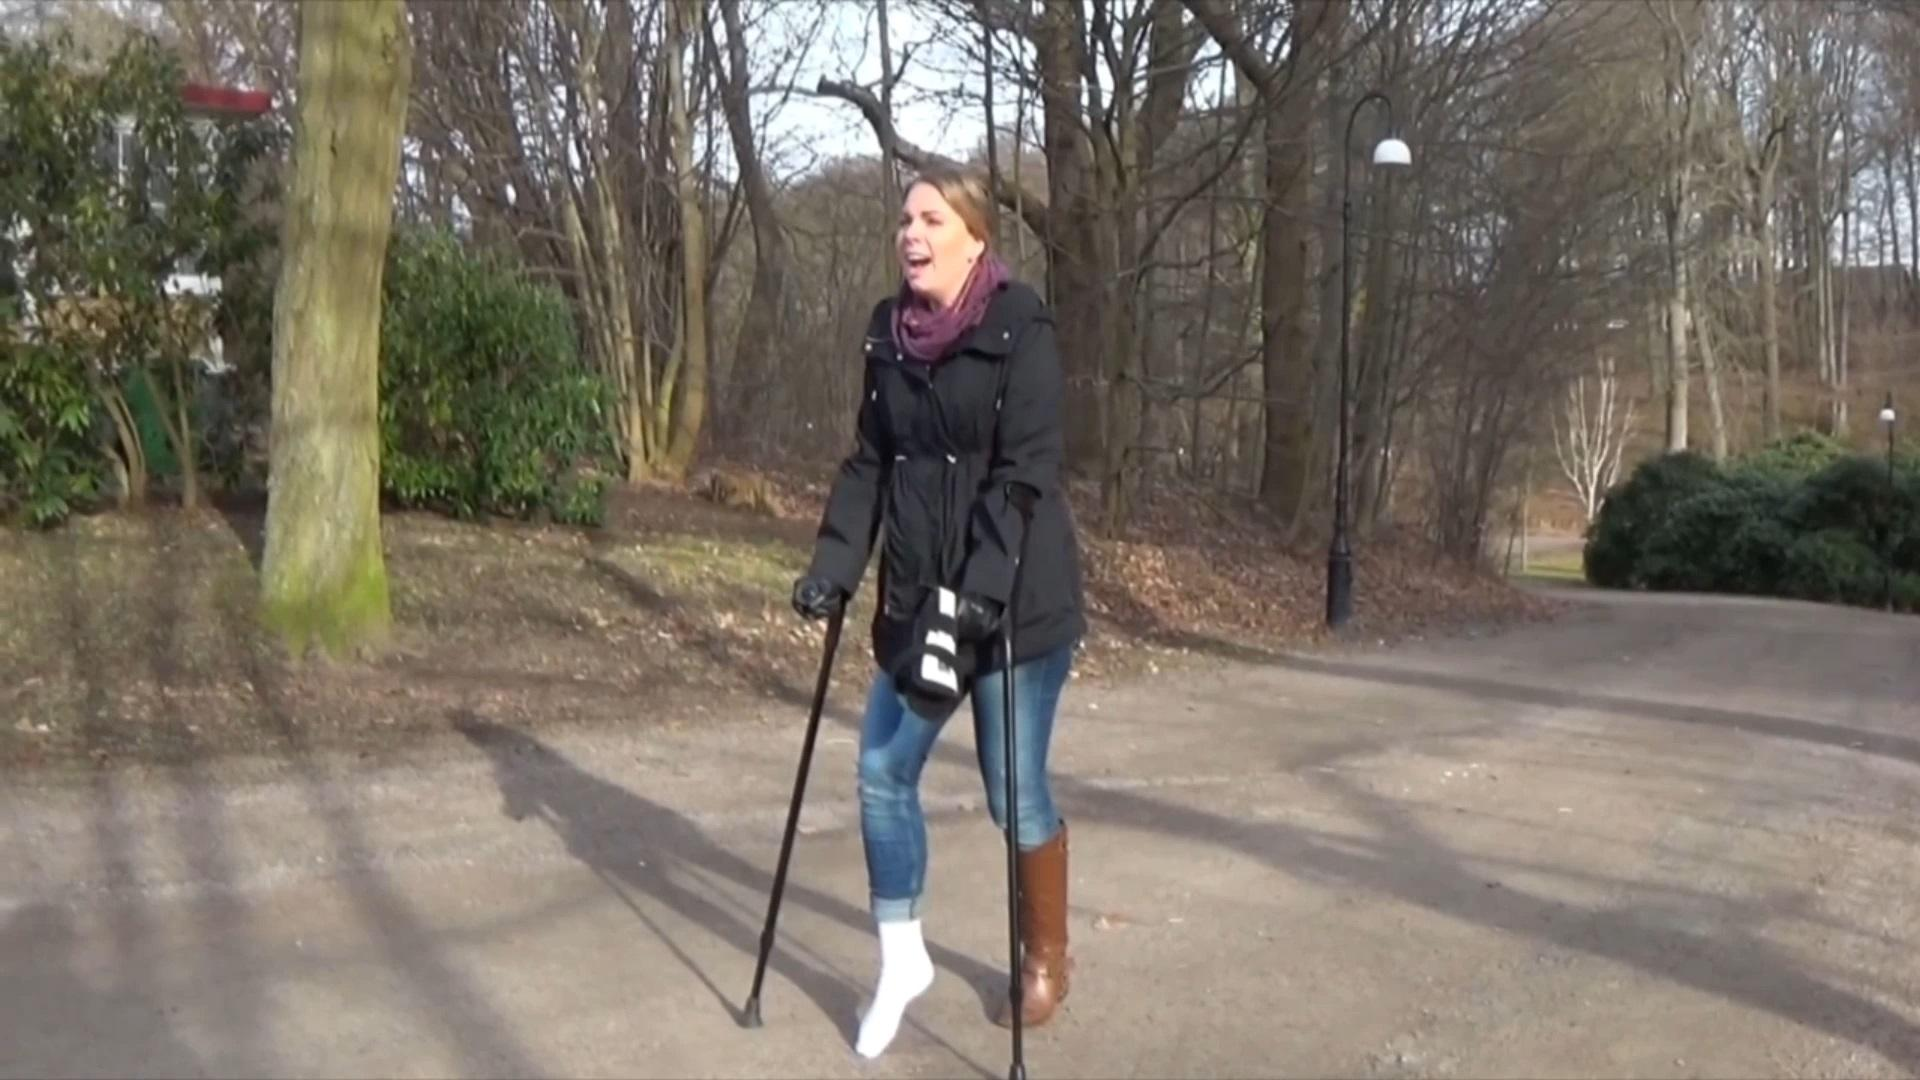crutches: (741, 167, 1076, 1080)
